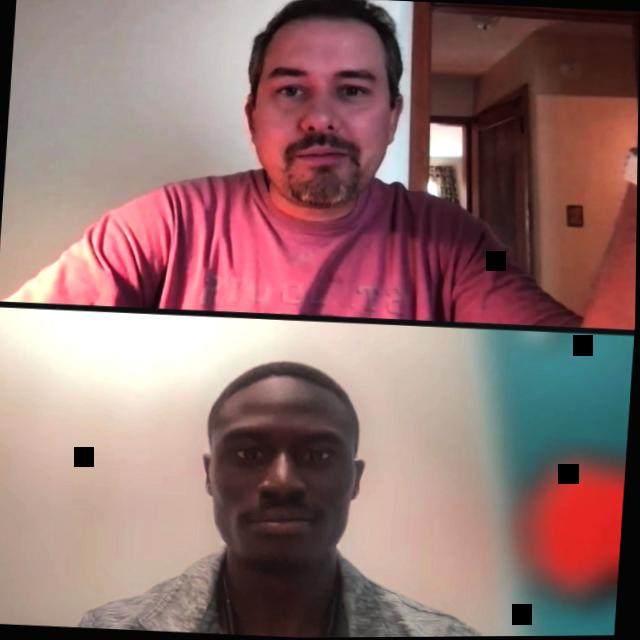NO-Mask: (194, 355, 374, 580), (232, 0, 413, 216)
